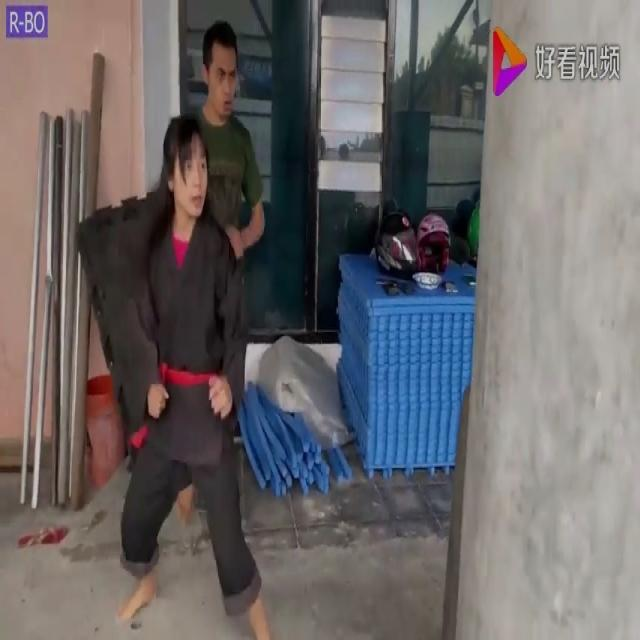non-fight: (116, 117, 271, 638), (195, 20, 266, 274)
